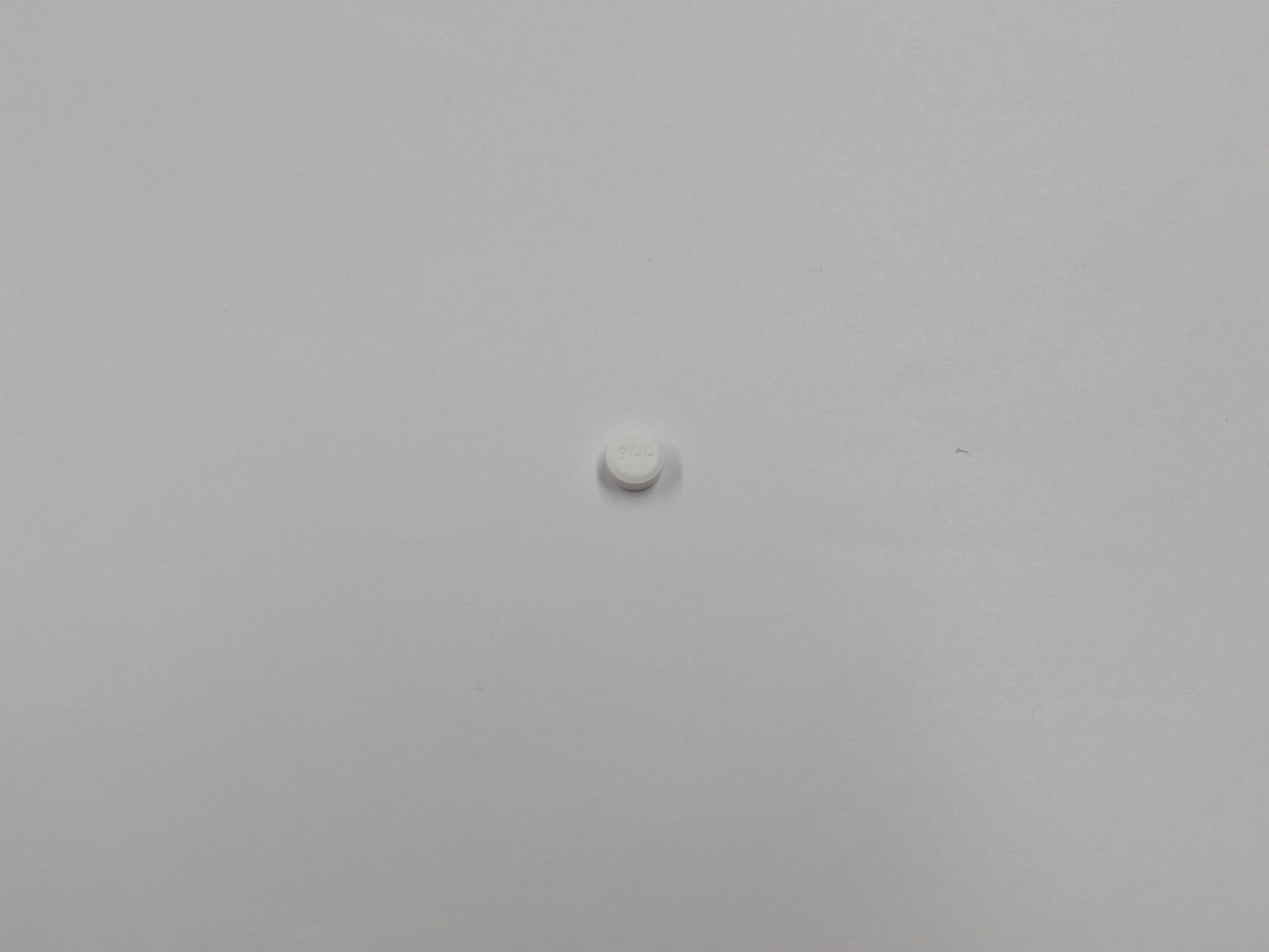Pill: (588, 417, 671, 502)
